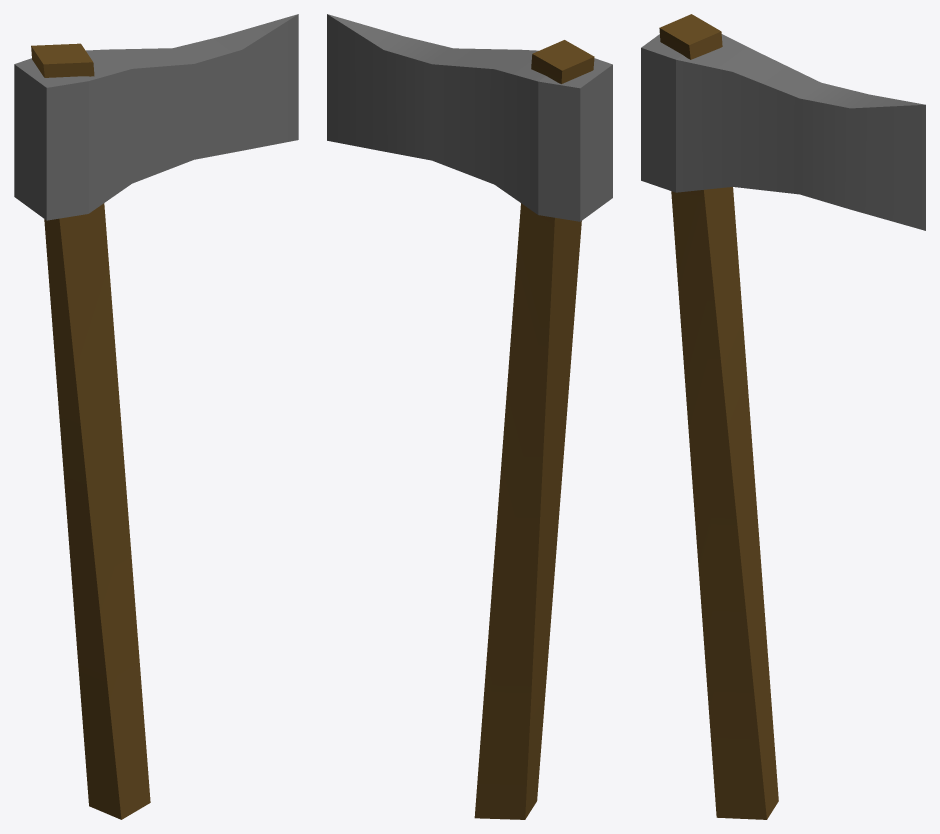
File: mesh_axe.fbx
3 views of the same model, side by side, from view 1: azimuth 30°, elevation 25°; view 2: azimuth 150°, elevation 25°; view 3: azimuth 330°, elevation 25° (orthographic).
Parts seen in each view (by area): view 1: axe; view 2: axe; view 3: axe.
Boxes of the visible parts, <box> form: axe: <box>14,14,298,819</box>; axe: <box>327,14,612,819</box>; axe: <box>641,14,925,819</box>.
Bounding box in the file's own units: 31.29 × 85.27 × 8.
1 material, 1 textured.
